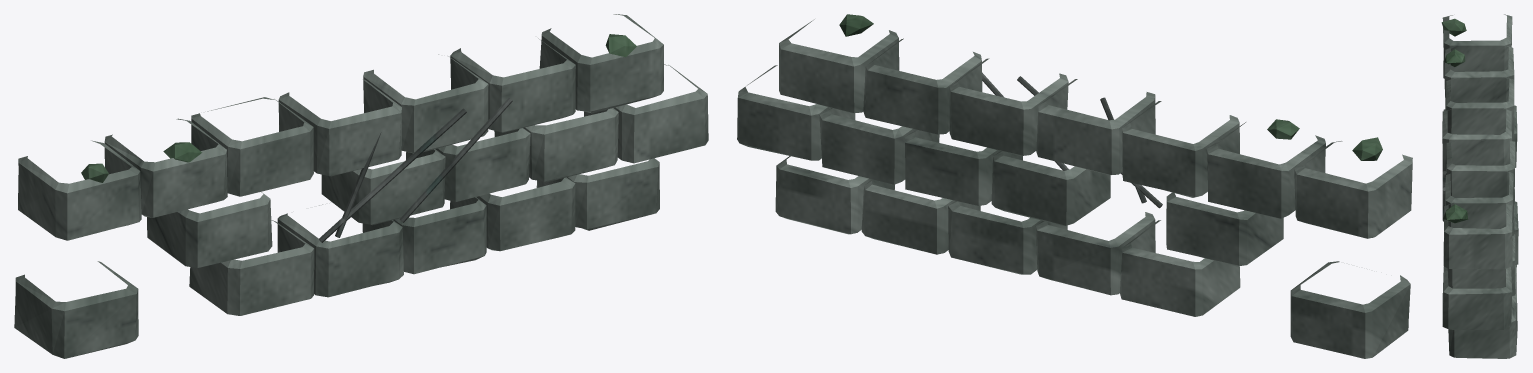
The model's file is 0350_wall_section_25.glb.
The picture shows the model from 3 angles, left to right: view 1: azimuth 30°, elevation 25°; view 2: azimuth 150°, elevation 25°; view 3: azimuth 270°, elevation 25°; orthographic projection. The views are drawn at different scales.
Parts seen in each view (by area): view 1: stone, iron, moss; view 2: stone, moss, iron; view 3: stone, moss, iron.
Part boxes in pixels (bbox=[...]): stone: bbox=[14, 14, 708, 358]; iron: bbox=[319, 98, 512, 242]; moss: bbox=[81, 34, 636, 182]; stone: bbox=[737, 19, 1412, 358]; moss: bbox=[839, 14, 1382, 160]; iron: bbox=[982, 72, 1162, 208]; stone: bbox=[1442, 14, 1518, 358]; moss: bbox=[1441, 18, 1468, 223]; iron: bbox=[1442, 151, 1446, 221].
Bounding box in the file's own units: 4.3 × 1.19 × 0.5969.
Materials: 3 (3 with a texture image).
